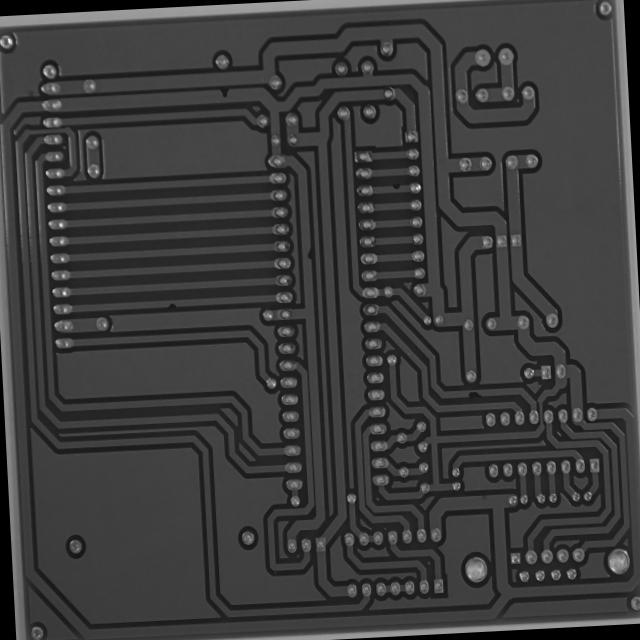mouse_bite: (464, 386, 484, 402), (303, 242, 315, 264), (162, 297, 180, 311), (216, 86, 232, 100), (390, 180, 404, 192)
